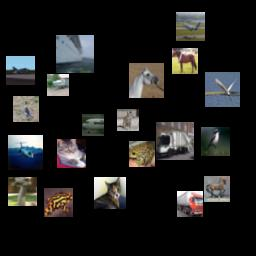airplane: (8, 135, 43, 170), (6, 56, 35, 85), (176, 12, 205, 41), (82, 114, 104, 136)
bird: (205, 72, 240, 107), (201, 127, 230, 156), (8, 177, 37, 206), (13, 96, 39, 122)
cat: (94, 177, 126, 209), (57, 139, 86, 168), (117, 109, 139, 131)
frog: (44, 188, 73, 217), (129, 141, 155, 167)
ship: (56, 35, 94, 73), (47, 74, 69, 96)
truck: (156, 122, 194, 160), (177, 191, 203, 217)
